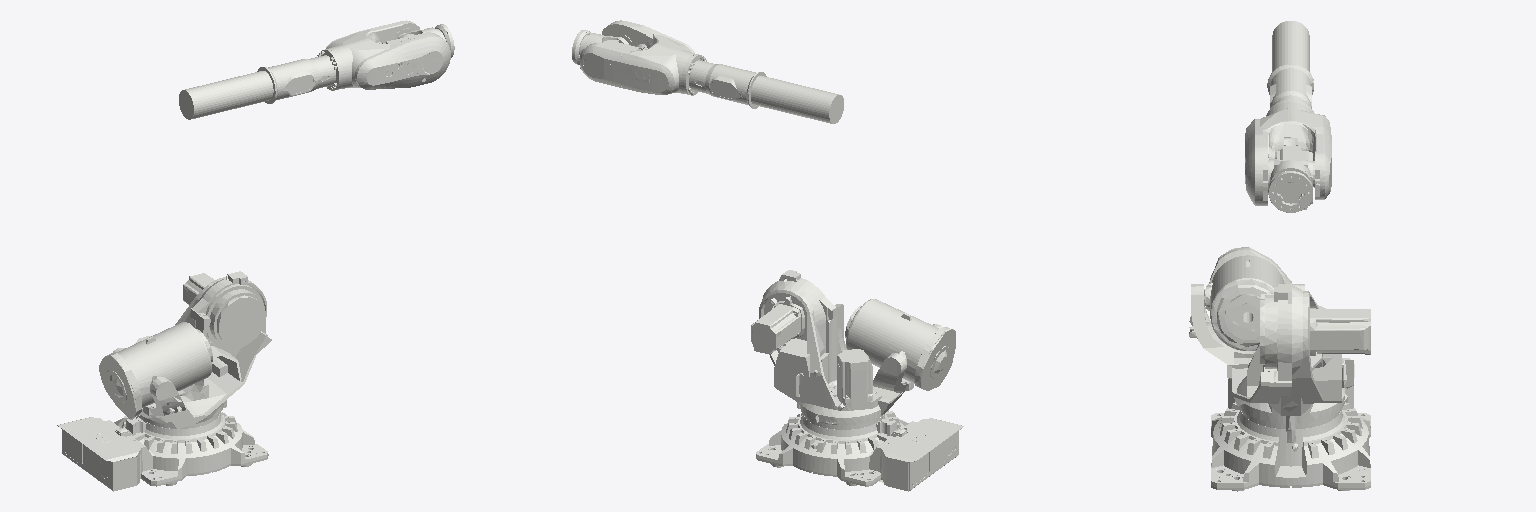
robot.urdf — abb_irb6700_235_265:
<?xml version="1.0" ?>
<!-- =================================================================================== -->
<!-- |    This document was autogenerated by xacro from irb6700_235_265.xacro          | -->
<!-- |    EDITING THIS FILE BY HAND IS NOT RECOMMENDED                                 | -->
<!-- =================================================================================== -->
<robot name="abb_irb6700_235_265">
  <transform tf_rb_ub="0.0 0.0 0.0 0.0 0.0 0.0 1.0" tf_rf_uf="0.0 0.0 0.0 0.0 0.0 0.0 1.0">
  </transform>
  <constraint coeff="0.0 0.0 0.0 1.0 0.0 0.0" lower_bound="0.0" upper_bound="0.0"/>
  <constraint coeff="0.0 1.0 1.0 0.0 1.0 0.0" lower_bound="1.5707963267948966" upper_bound="1.5707963267948966"/>
  <!-- Conversion were obtained from http://www.e-paint.co.uk/Lab_values.asp
       unless otherwise stated. -->
  <!-- link list -->
  <link name="base_link">
    <visual>
      <origin rpy="0 0 0" xyz="0 0 0"/>
      <geometry>
        <mesh filename="package://abb_irb6700_support/meshes/irb6700_235_265/visual/base_link.stl"/>
      </geometry>
      <material name="">
        <color rgba="0.9254902 0.9254902 0.9058824 1"/>
      </material>
    </visual>
    <collision>
      <origin rpy="0 0 0" xyz="0 0 0"/>
      <geometry>
        <mesh filename="package://abb_irb6700_support/meshes/irb6700_235_265/collision/base_link.stl"/>
      </geometry>
      <material name="">
        <color rgba="1 1 0 1"/>
      </material>
    </collision>
  </link>
  <link name="link_1">
    <visual>
      <origin rpy="0 0 0" xyz="0 0 -0.78"/>
      <geometry>
        <mesh filename="package://abb_irb6700_support/meshes/irb6700_235_265/visual/link_1.stl"/>
      </geometry>
      <material name="">
        <color rgba="0.9254902 0.9254902 0.9058824 1"/>
      </material>
    </visual>
    <collision>
      <origin rpy="0 0 0" xyz="0 0 -0.78"/>
      <geometry>
        <mesh filename="package://abb_irb6700_support/meshes/irb6700_235_265/collision/link_1.stl"/>
      </geometry>
      <material name="">
        <color rgba="1 1 0 1"/>
      </material>
    </collision>
  </link>
  <link name="link_2">
    <visual>
      <origin rpy="0 0 0" xyz="-0.32 0 -0.78"/>
      <geometry>
        <mesh filename="package://abb_irb6700_support/meshes/irb6700_235_265/visual/link_2.stl"/>
      </geometry>
      <material name="">
        <color rgba="0.9254902 0.9254902 0.9058824 1"/>
      </material>
    </visual>
    <collision>
      <origin rpy="0 0 0" xyz="-0.32 0 -0.78"/>
      <geometry>
        <mesh filename="package://abb_irb6700_support/meshes/irb6700_235_265/collision/link_2.stl"/>
      </geometry>
      <material name="">
        <color rgba="1 1 0 1"/>
      </material>
    </collision>
  </link>
  <link name="link_3">
    <visual>
      <origin rpy="0 0 0" xyz="-0.32 0 -1.915"/>
      <geometry>
        <mesh filename="package://abb_irb6700_support/meshes/irb6700_235_265/visual/link_3.stl"/>
      </geometry>
      <material name="">
        <color rgba="0.9254902 0.9254902 0.9058824 1"/>
      </material>
    </visual>
    <collision>
      <origin rpy="0 0 0" xyz="-0.32 0 -1.915"/>
      <geometry>
        <mesh filename="package://abb_irb6700_support/meshes/irb6700_235_265/collision/link_3.stl"/>
      </geometry>
      <material name="">
        <color rgba="1 1 0 1"/>
      </material>
    </collision>
  </link>
  <link name="link_4">
    <visual>
      <origin rpy="0 0 0" xyz="-0.32 0 -2.115"/>
      <geometry>
        <mesh filename="package://abb_irb6700_support/meshes/irb6700_235_265/visual/link_4.stl"/>
      </geometry>
      <material name="">
        <color rgba="0.9254902 0.9254902 0.9058824 1"/>
      </material>
    </visual>
    <collision>
      <origin rpy="0 0 0" xyz="-0.32 0 -2.115"/>
      <geometry>
        <mesh filename="package://abb_irb6700_support/meshes/irb6700_235_265/collision/link_4.stl"/>
      </geometry>
      <material name="">
        <color rgba="1 1 0 1"/>
      </material>
    </collision>
  </link>
  <link name="link_5">
    <visual>
      <origin rpy="0 0 0" xyz="-1.5025 0 -2.115"/>
      <geometry>
        <mesh filename="package://abb_irb6700_support/meshes/irb6700_235_265/visual/link_5.stl"/>
      </geometry>
      <material name="">
        <color rgba="0.9254902 0.9254902 0.9058824 1"/>
      </material>
    </visual>
    <collision>
      <origin rpy="0 0 0" xyz="-1.5025 0 -2.115"/>
      <geometry>
        <mesh filename="package://abb_irb6700_support/meshes/irb6700_235_265/collision/link_5.stl"/>
      </geometry>
      <material name="">
        <color rgba="1 1 0 1"/>
      </material>
    </collision>
  </link>
  <link name="link_6">
    <visual>
      <origin rpy="3.141592653589793 -1.5707963267948966 0" xyz="-2.115 0 -1.7025"/>
      <geometry>
        <mesh filename="package://abb_irb6700_support/meshes/irb6700_235_265/visual/link_6.stl"/>
      </geometry>
      <material name="">
        <color rgba="0.9254902 0.9254902 0.9058824 1"/>
      </material>
    </visual>
    <collision>
      <origin rpy="3.141592653589793 -1.5707963267948966 0" xyz="-2.115 0 -1.7025"/>
      <geometry>
        <mesh filename="package://abb_irb6700_support/meshes/irb6700_235_265/collision/link_6.stl"/>
      </geometry>
      <material name="">
        <color rgba="1 1 0 1"/>
      </material>
    </collision>
  </link>
  <joint name="joint1" type="revolute">
    <origin rpy="0 0 0" xyz="0 0 0.78"/>
    <parent link="base_link"/>
    <child link="link_1"/>
    <axis xyz="0 0 1"/>
    <limit effort="0" lower="-2.9670597283903604" upper="2.9670597283903604" velocity="1.7453292519943295"/>
  </joint>
  <joint name="joint2" type="revolute">
    <origin rpy="0 0 0" xyz="0.32 0 0"/>
    <parent link="link_1"/>
    <child link="link_2"/>
    <axis xyz="0 1 0"/>
    <limit effort="0" lower="-1.1344640137963142" upper="1.4835298641951802" velocity="1.5707963267948966"/>
  </joint>
  <joint name="joint3" type="revolute">
    <origin rpy="0 0 0" xyz="0 0 1.135"/>
    <parent link="link_2"/>
    <child link="link_3"/>
    <axis xyz="0 1 0"/>
    <limit effort="0" lower="-3.141592653589793" upper="1.2042771838760873" velocity="1.5707963267948966"/>
  </joint>
  <joint name="joint4" type="revolute">
    <origin rpy="0 0 0" xyz="0 0 0.2"/>
    <parent link="link_3"/>
    <child link="link_4"/>
    <axis xyz="1 0 0"/>
    <limit effort="0" lower="-5.235987755982989" upper="5.235987755982989" velocity="2.9670597283903604"/>
  </joint>
  <joint name="joint5" type="revolute">
    <origin rpy="0 0 0" xyz="1.1825 0 0"/>
    <parent link="link_4"/>
    <child link="link_5"/>
    <axis xyz="0 1 0"/>
    <limit effort="0" lower="-2.2689280275926285" upper="2.2689280275926285" velocity="2.0943951023931953"/>
  </joint>
  <joint name="joint6" type="revolute">
    <origin rpy="0 1.5707963267948966 0" xyz="0.2 0 0"/>
    <parent link="link_5"/>
    <child link="link_6"/>
    <axis xyz="0 0 1"/>
    <limit effort="0" lower="-6.283185307179586" upper="6.283185307179586" velocity="3.3161255787892263"/>
  </joint>
</robot>

--- Render facts (derived) ---
Views: 3 orthographic renders of the robot side by side, from view 1: azimuth 30°, elevation 25°; view 2: azimuth 150°, elevation 25°; view 3: azimuth 270°, elevation 25°.
Robot: abb_irb6700_235_265 — 7 links, 6 joints (6 revolute); root link base_link; default pose: every joint at zero.
Visible links, largest first — view 1: link_1, link_4, base_link; view 2: link_1, link_4, base_link, link_5; view 3: link_1, base_link, link_4, link_6, link_5.
Link boxes in pixels (box(x1,y1,x2,y2)): link_1: box(99, 271, 271, 428); link_4: box(179, 20, 450, 119); base_link: box(57, 412, 268, 491); link_1: box(751, 270, 955, 424); link_4: box(578, 20, 843, 123); base_link: box(756, 410, 963, 491); link_5: box(579, 33, 640, 69); link_1: box(1189, 246, 1370, 442); base_link: box(1211, 358, 1370, 491); link_4: box(1245, 21, 1331, 205); link_6: box(1269, 171, 1312, 212); link_5: box(1269, 146, 1312, 209).
Bounding box of the posed robot: 2.33 × 0.8191 × 2.26 m (x, y, z).
Meshes: 7 distinct files referenced, 5 mesh visuals loaded (5 binary STL); not drawn: 2 (reference not matched to a file when rendering).